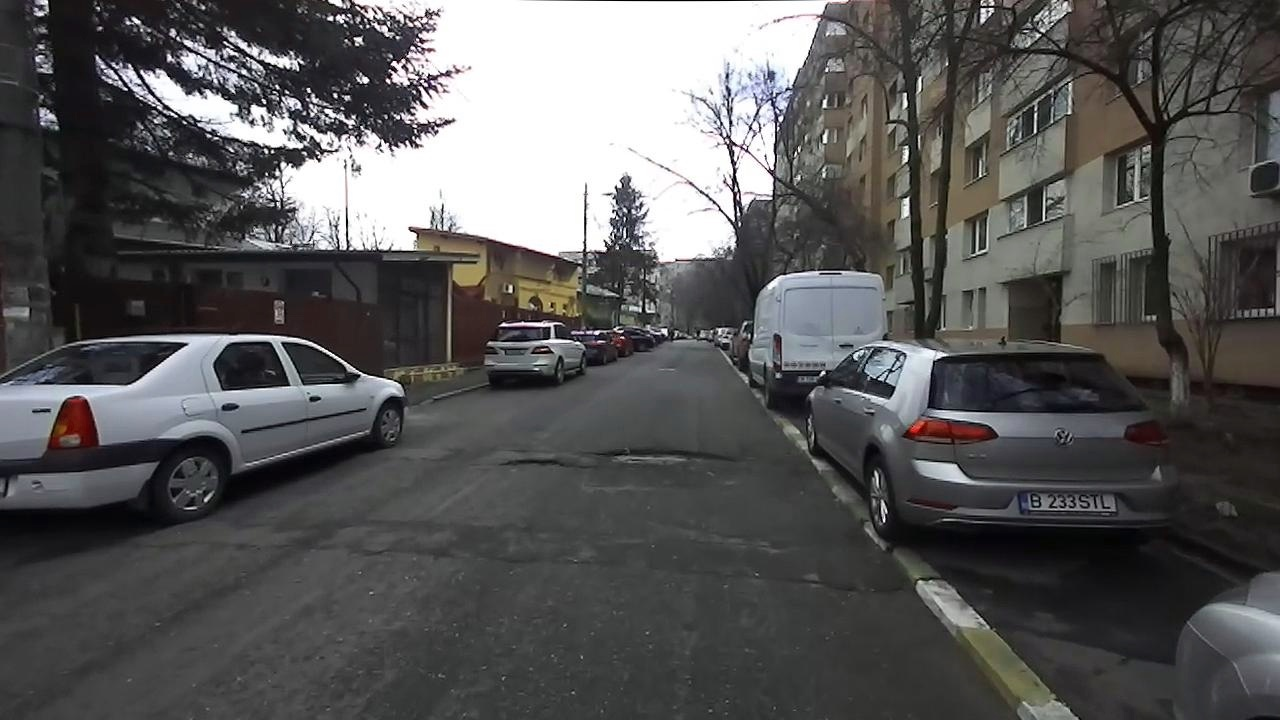pothole: (591, 445, 739, 469), (794, 575, 904, 603), (498, 455, 582, 468)
